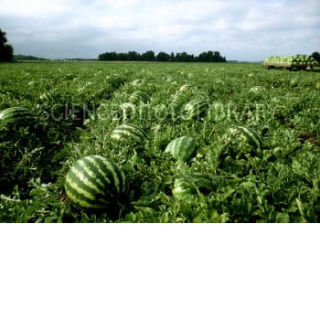dua_hau: (63, 156, 128, 211), (165, 136, 201, 171)
